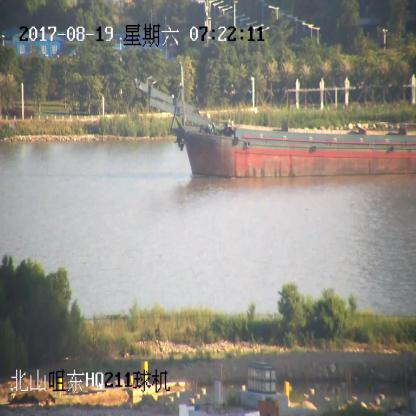Bulk Carrier: (136, 63, 415, 180)
